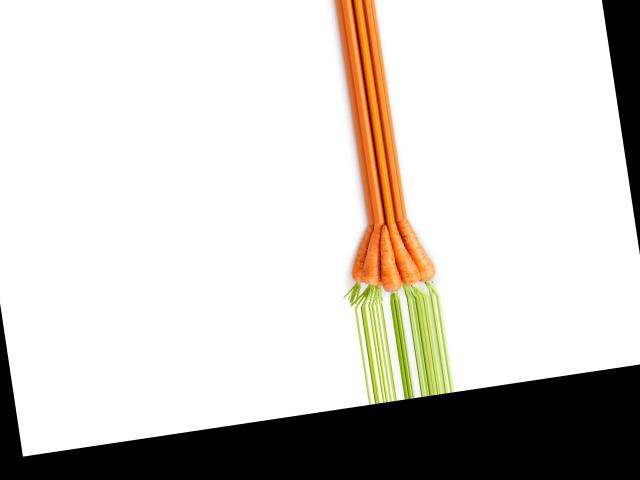carrot: (337, 224, 381, 285)
